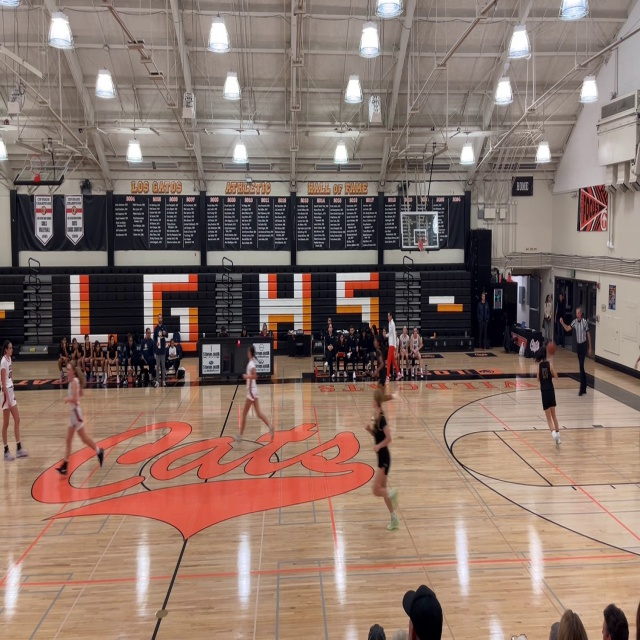Basketball: (546, 342, 555, 355)
